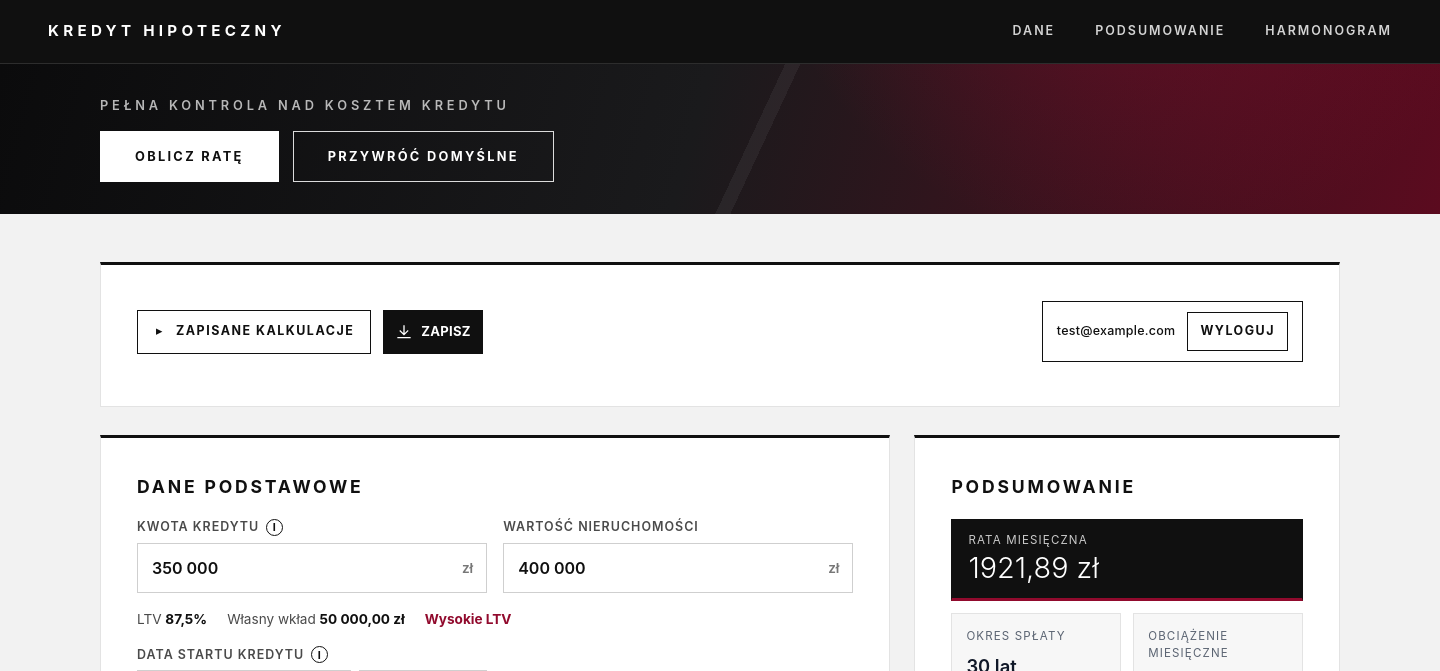
Test: save button behavior › converts legacy rate changes to a WIBOR using the saved margin
The width and height of the screenshot is (1440, 671).
Click the button "▸ Zapisane kalkulacje".
click(254, 332)  # box [137,310,371,354]
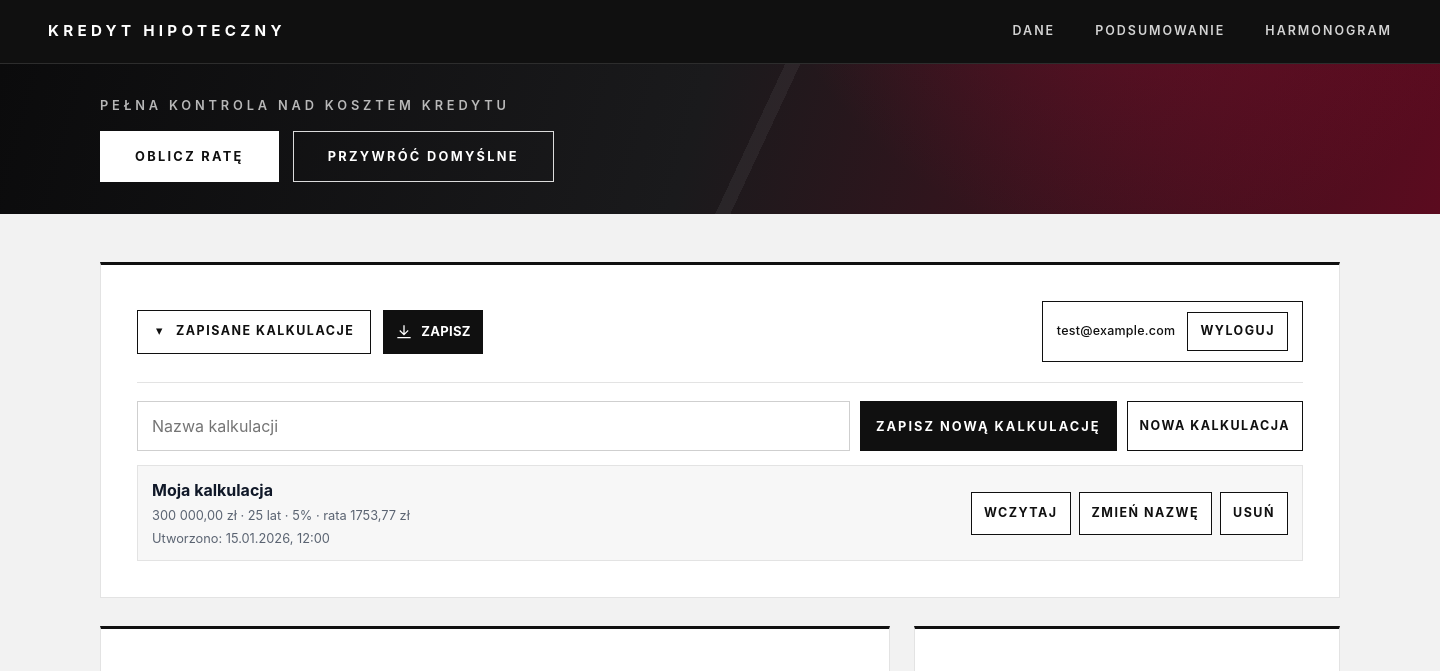
Expected: the field with placeholder "Nazwa kalkulacji" is shown, [137,401,850,451]
Click the button "Wczytaj".
click(1021, 513)  # box [971,492,1071,535]
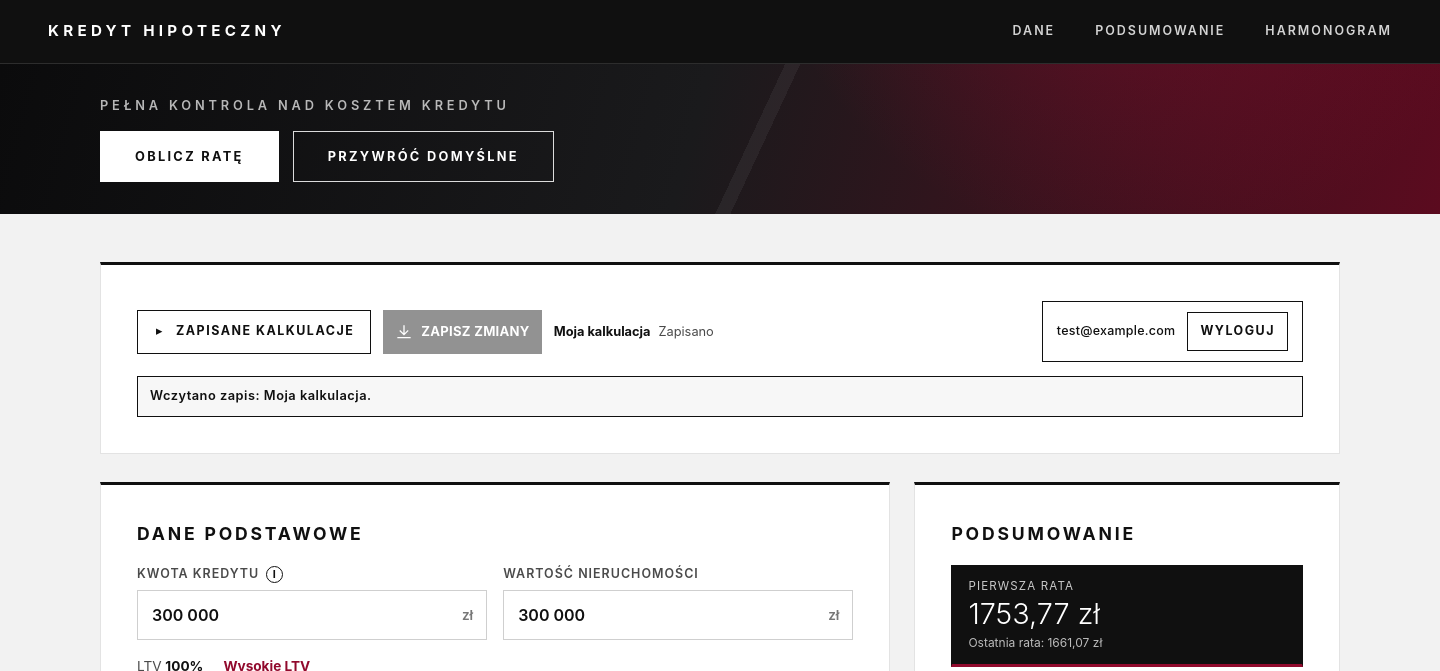
Expected: the message with class "save-status" shows "Moja kalkulacja", [554,324,650,339]
